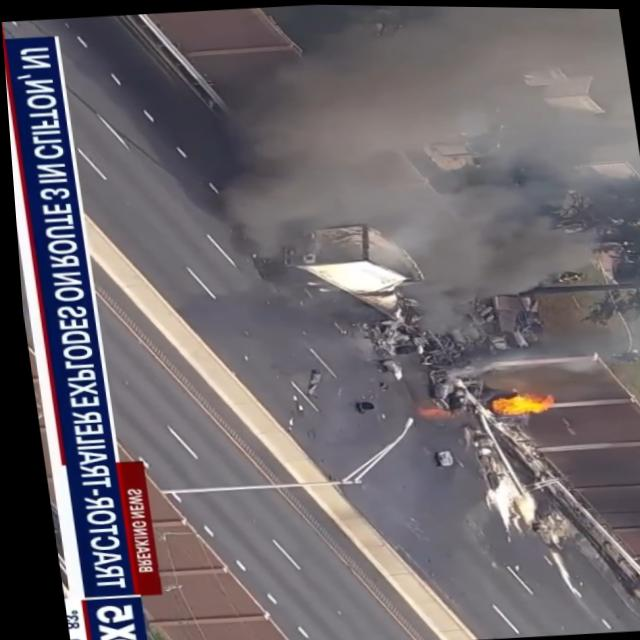Fire: (478, 388, 555, 422)
